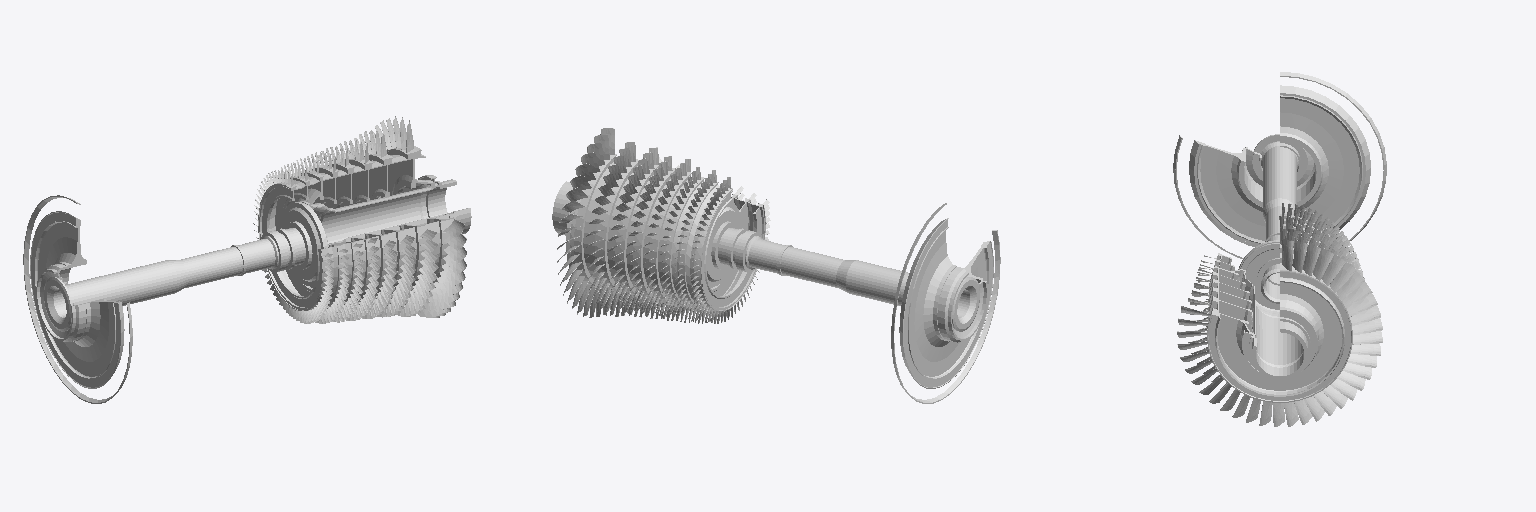
The model's file is spool2.obj.
3 renders of one model, left to right at view 1: azimuth 30°, elevation 25°; view 2: azimuth 150°, elevation 25°; view 3: azimuth 270°, elevation 25°, orthographic.
Parts seen in each view (by area): view 1: Spool2, Spool2-358, Spool2-359, Spool2-360; view 2: Spool2, Spool2-359, Spool2-358, Spool2-360; view 3: Spool2, Spool2-359, Spool2-358, Spool2-360.
Boxes of the visible parts, <box> form: Spool2: <box>258,146,471,310</box>; Spool2-358: <box>44,202,327,331</box>; Spool2-359: <box>30,211,124,388</box>; Spool2-360: <box>23,195,132,403</box>; Spool2: <box>552,154,765,310</box>; Spool2-359: <box>899,218,993,388</box>; Spool2-358: <box>707,203,979,331</box>; Spool2-360: <box>891,203,1000,403</box>; Spool2: <box>1207,214,1352,402</box>; Spool2-359: <box>1189,85,1370,246</box>; Spool2-358: <box>1238,134,1298,313</box>; Spool2-360: <box>1173,72,1386,258</box>.
Size of the model in its own units: 2138 by 982 by 983.